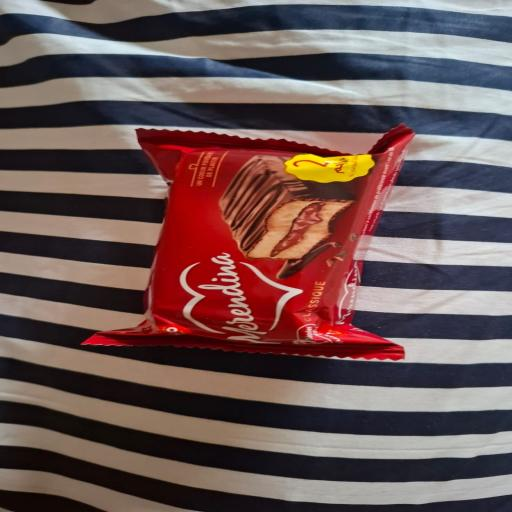merendina: (97, 111, 474, 413)
